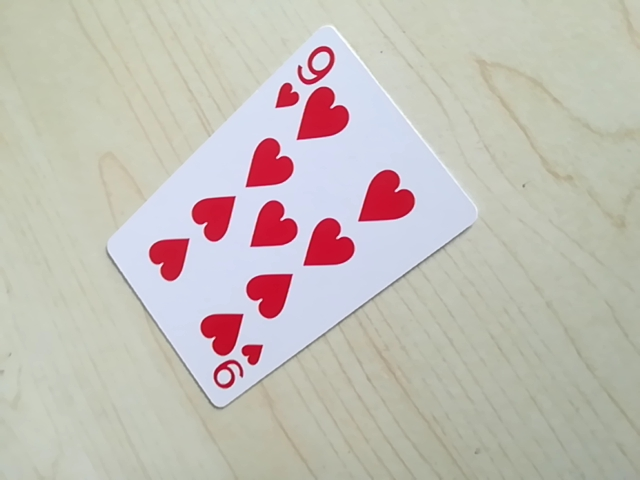hx 9: (271, 36, 343, 106), (207, 345, 266, 400)
